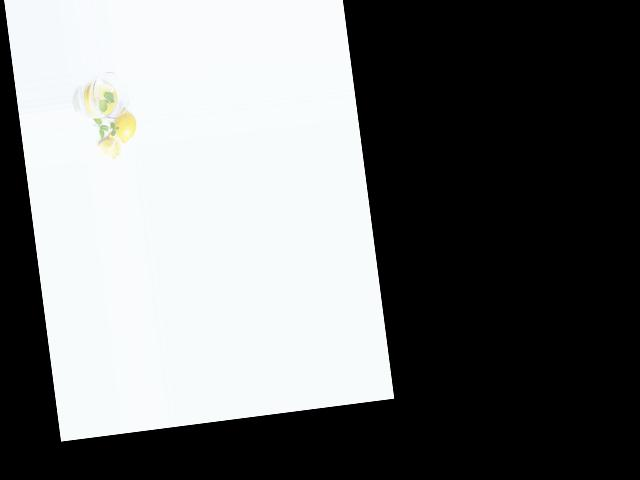lemon: (108, 103, 139, 144)
